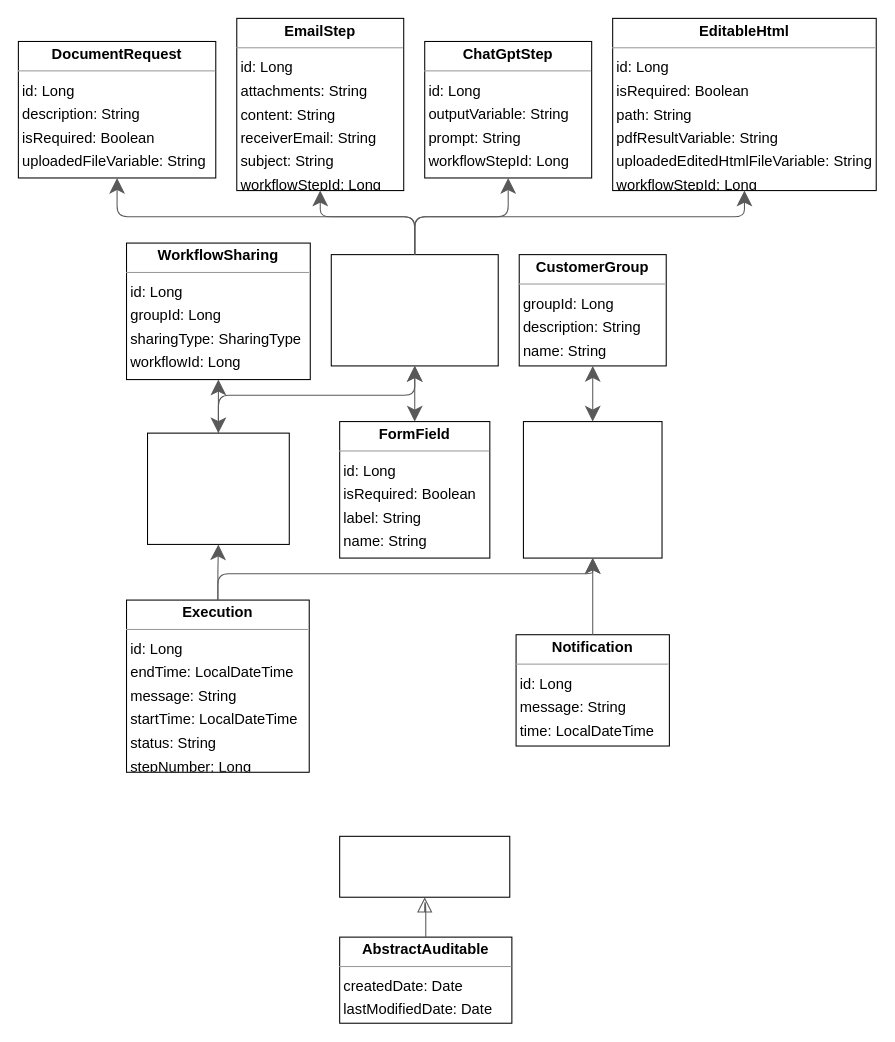
This 895x1042 diagram has some shape labels left out. The shapes that lost their labels are listed below. From the top down, each one's centre as x and y in pixels, then its label:
At (x=414, y=310): "WorkflowStep workflowStepId: Long stepNumber: Long stepType: String".
At (x=217, y=488): "Workflow id: Long description: String name: String".
At (x=592, y=489): "Customer customerId: Long email: String password: String role: Role".
At (x=424, y=866): "AbstractPersistable id: PK".
